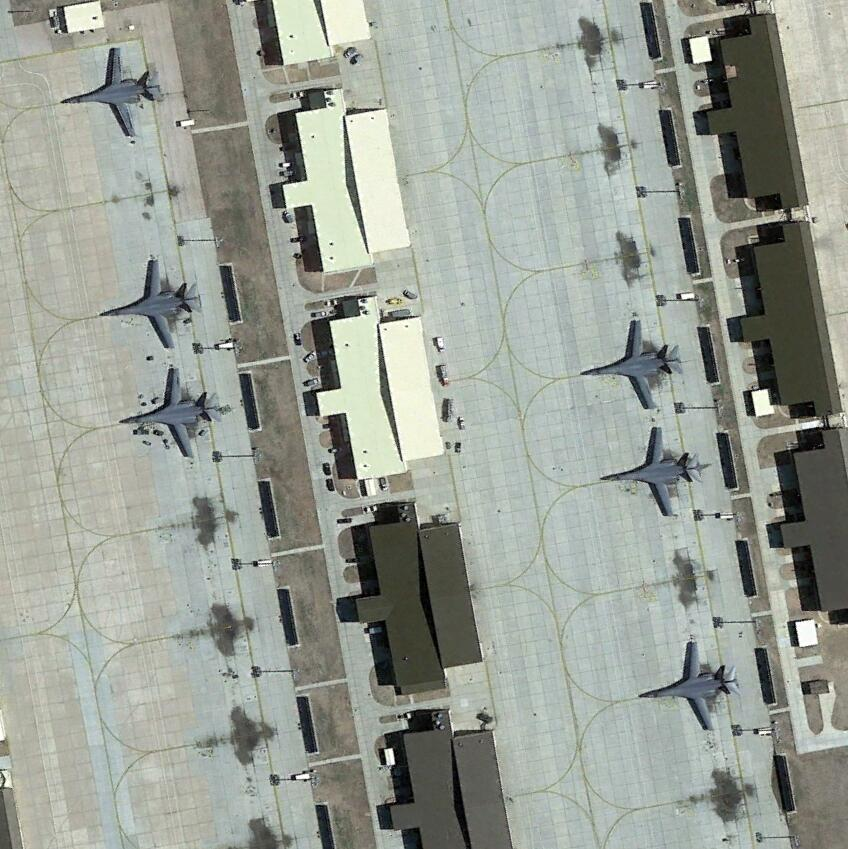A10: (593, 425, 711, 524), (119, 363, 230, 460), (576, 319, 686, 414), (100, 257, 206, 353), (639, 637, 745, 733), (60, 48, 166, 137)
